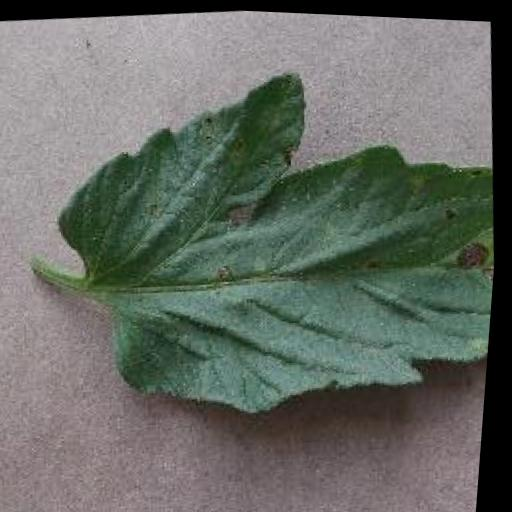Early Blight: (35, 48, 509, 441)
